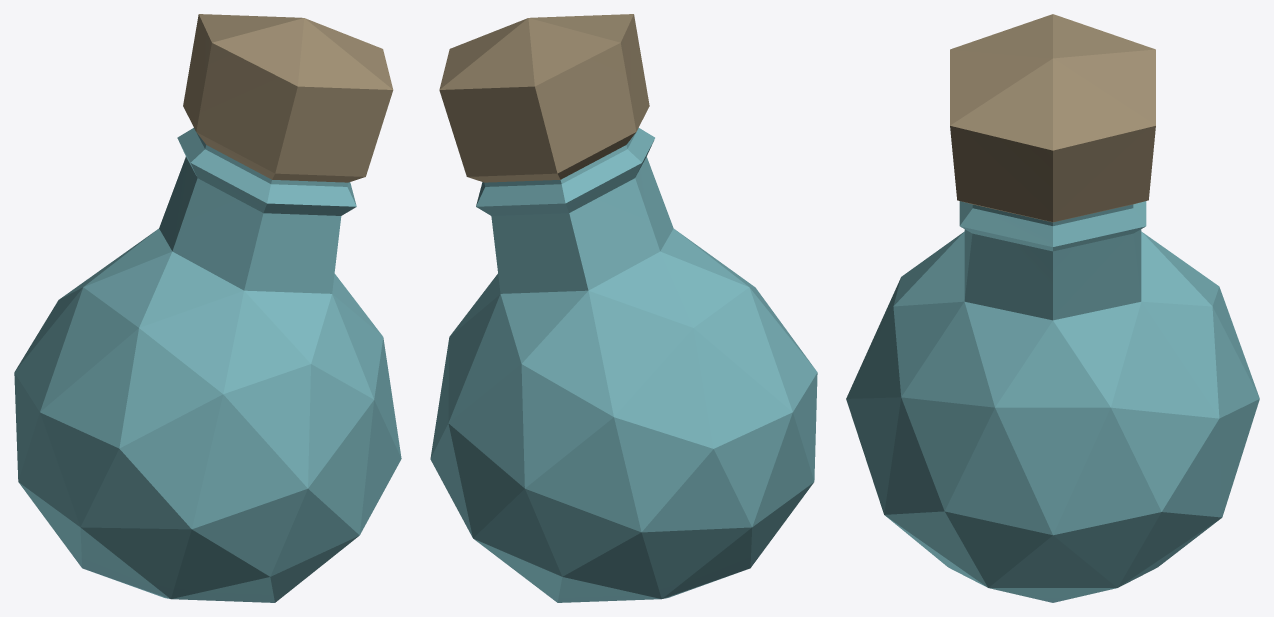
The model's file is genericPotion.fbx.
The picture shows the model from 3 angles, left to right: view 1: azimuth 30°, elevation 25°; view 2: azimuth 150°, elevation 25°; view 3: azimuth 270°, elevation 25°; orthographic projection. The views are drawn at different scales.
Parts seen in each view (by area): view 1: genericPotion; view 2: genericPotion; view 3: genericPotion.
Boxes of the visible parts, <box> form: genericPotion: <box>14,14,401,602</box>; genericPotion: <box>430,14,817,602</box>; genericPotion: <box>846,14,1259,602</box>.
Size of the model in its own units: 1.04 by 1.58 by 1.04.
